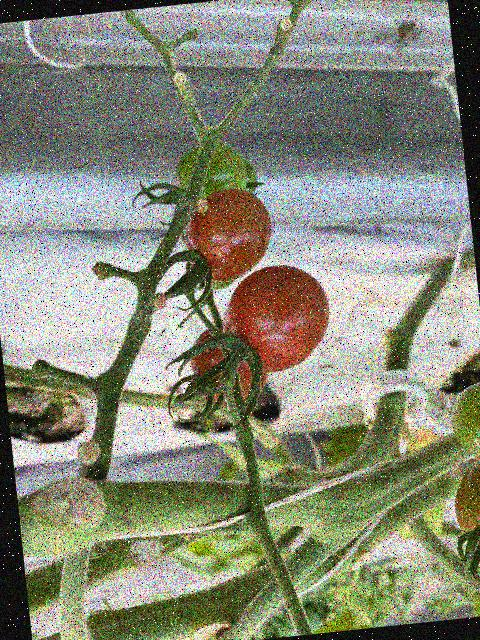l_fully_ripened: (215, 259, 336, 376), (186, 318, 273, 413)
l_green: (170, 139, 251, 212), (446, 382, 480, 465)
l_half_ripened: (180, 183, 278, 286), (450, 459, 480, 557)
